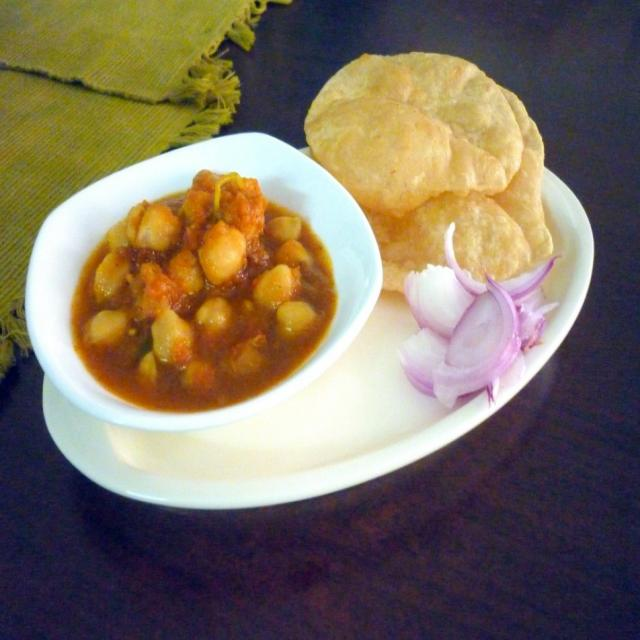Chole: (71, 170, 335, 412)
